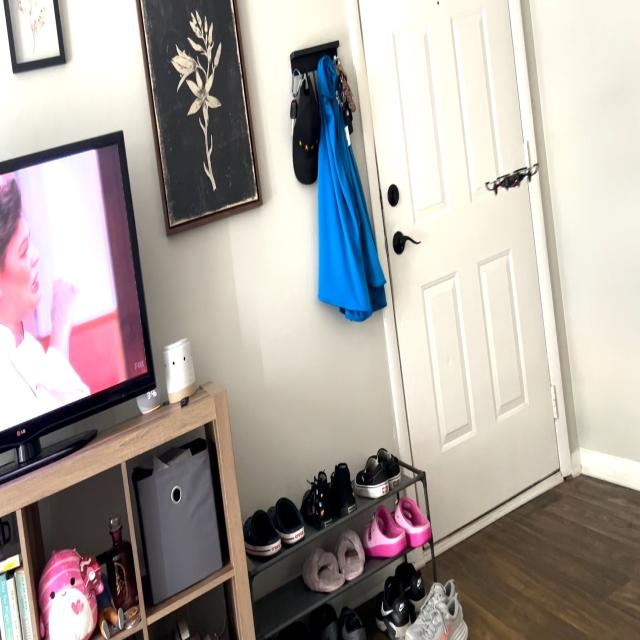drone: (478, 148, 540, 204)
